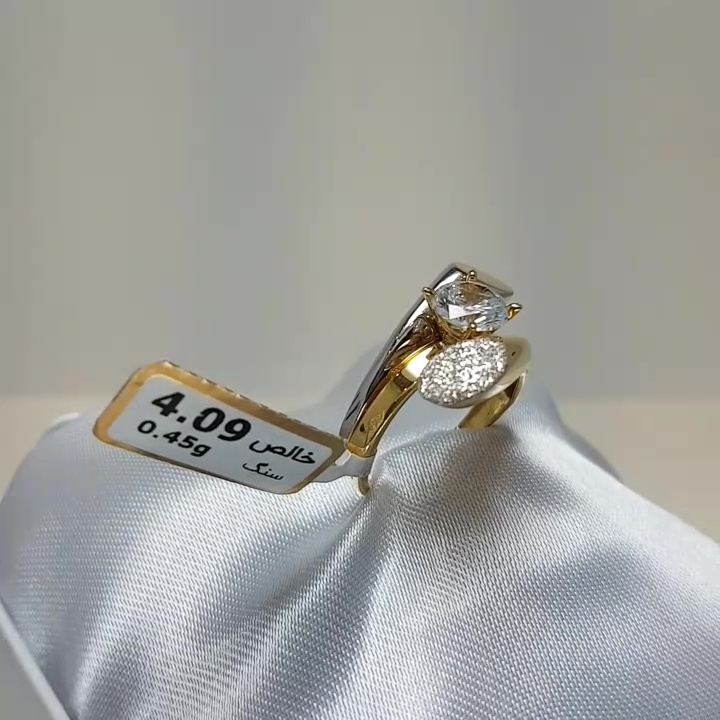Ring 7: (317, 241, 571, 527)
